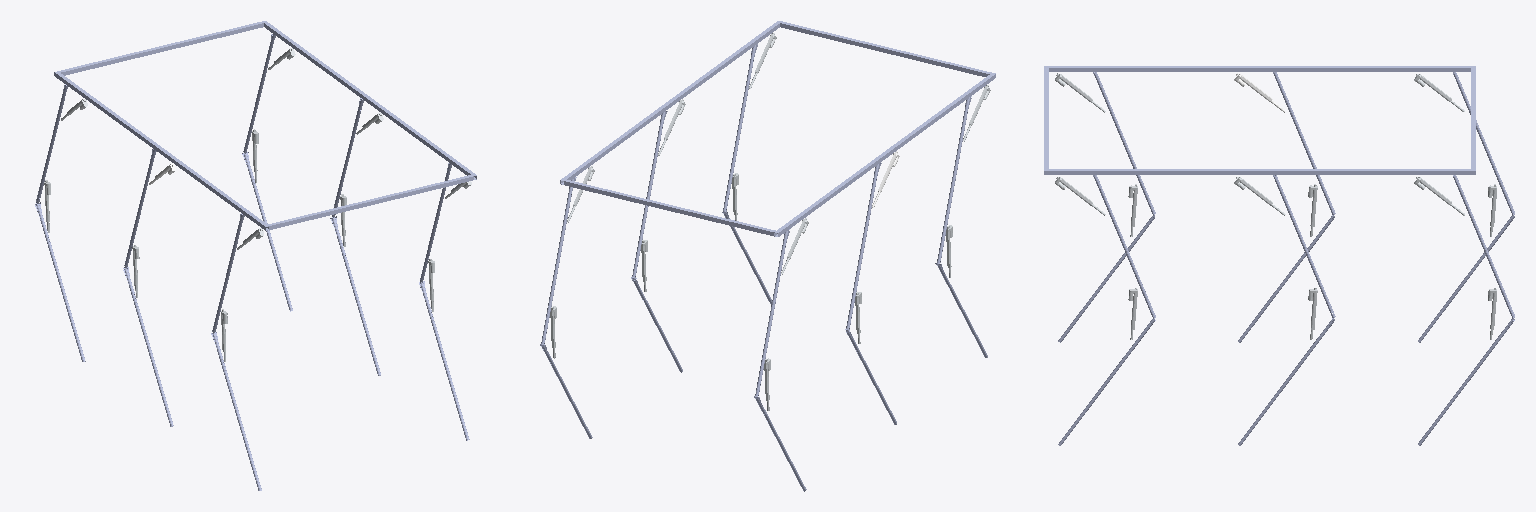
--- Facts derived from the render (not from the file) ---
The picture shows the robot from 3 angles, left to right: view 1: azimuth 30°, elevation 25°; view 2: azimuth 150°, elevation 25°; view 3: azimuth 270°, elevation 25°; orthographic projection.
Model robot_asmb with 45 links and 44 joints (12 revolute, 11 prismatic, 21 fixed), rooted at mid_right_chassis, posed every joint at zero.
Links seen in each view (by area): view 1: chassis_front_H, chassis_rear_H, front_right_chasiss, mid_right_chassis, mid_left_chassis, front_left_chassis, front_right_tube_L, rear_right_tube_L, mid_right_tube_L, front_left_tube_L, mid_left_tube_L, rear_left_tube_L; view 2: chassis_rear_H, chassis_front_H, mid_right_chassis, front_right_chasiss, mid_left_chassis, front_left_chassis, mid_right_tube_U, front_right_tube_U, front_left_tube_U, rear_right_tube_U, rear_left_tube_U, mid_left_tube_U; view 3: mid_right_chassis, front_left_chassis, mid_left_chassis, front_right_chasiss, front_left_tube_L, rear_left_tube_L, mid_left_tube_L, mid_left_tube_U, rear_left_tube_U, front_left_tube_U, rear_right_tube_L, mid_right_tube_L (+1 smaller).
Boxes of the visible links, x1,y1,x2,y2 form: chassis_front_H: (268,175,473,229); chassis_rear_H: (59,22,263,75); front_right_chasiss: (178,162,269,230); mid_right_chassis: (90,97,181,165); mid_left_chassis: (297,46,388,114); front_left_chassis: (385,111,476,179); front_right_tube_L: (213,333,261,490); rear_right_tube_L: (36,204,85,361); mid_right_tube_L: (124,269,173,426); front_left_tube_L: (420,283,469,440); mid_left_tube_L: (332,218,380,375); rear_left_tube_L: (244,154,292,311); chassis_rear_H: (564,179,775,235); chassis_front_H: (780,21,991,76); mid_right_chassis: (811,139,904,210); front_right_chasiss: (902,73,995,143); mid_left_chassis: (597,87,690,157); front_left_chassis: (688,21,781,91); mid_right_tube_U: (846,164,878,329); front_right_tube_U: (937,97,969,262); front_left_tube_U: (723,45,755,210); rear_right_tube_U: (755,231,787,395); rear_left_tube_U: (541,179,573,343); mid_left_tube_U: (632,112,664,277); mid_right_chassis: (1224,66,1403,71); front_left_chassis: (1044,169,1223,174); mid_left_chassis: (1224,169,1403,174); front_right_chasiss: (1044,66,1223,71); front_left_tube_L: (1058,319,1155,445); rear_left_tube_L: (1418,318,1514,445); mid_left_tube_L: (1238,318,1334,445); mid_left_tube_U: (1274,175,1335,317); rear_left_tube_U: (1453,175,1514,317); front_left_tube_U: (1094,175,1155,317); rear_right_tube_L: (1418,215,1514,342); mid_right_tube_L: (1238,215,1334,342).
Size in the robot's own frame: 2.1 by 3.93 by 2.54 metres.
Meshes: 45 distinct files referenced, 44 mesh visuals loaded (44 binary STL); not drawn: 1 (reference not matched to a file when rendering).

robot.urdf — robot_asmb:
<?xml version="1.0" encoding="utf-8"?>
<!-- This URDF was automatically created by SolidWorks to URDF Exporter! Originally created by Stephen Brawner ([email redacted]) 
     Commit Version: 1.6.0-4-g7f85cfe  Build Version: 1.6.7995.38578
     For more information, please see http://wiki.ros.org/sw_urdf_exporter -->
<robot
  name="robot_asmb">
  <link
    name="mid_right_chassis">
    <inertial>
      <origin
        xyz="-1.01904958862805 0.450918359101979 2.53097602022226"
        rpy="0 0 0" />
      <mass
        value="0.664323169148694" />
      <inertia
        ixx="0.124497537684337"
        ixy="1.03440379130568E-07"
        ixz="3.29978112885734E-09"
        iyy="0.000272415804836353"
        iyz="1.06181136709888E-05"
        izz="0.124497811349337" />
    </inertial>
    <visual>
      <origin
        xyz="0 0 0"
        rpy="0 0 0" />
      <geometry>
        <mesh
          filename="package://robot_asmb/meshes/mid_right_chassis.STL" />
      </geometry>
      <material
        name="">
        <color
          rgba="0.792156862745098 0.819607843137255 0.933333333333333 1" />
      </material>
    </visual>
    <collision>
      <origin
        xyz="0 0 0"
        rpy="0 0 0" />
      <geometry>
        <mesh
          filename="package://robot_asmb/meshes/mid_right_chassis.STL" />
      </geometry>
    </collision>
  </link>
  <link
    name="front_right_chasiss">
    <inertial>
      <origin
        xyz="-1.019 -1.0491 2.531"
        rpy="0 0 0" />
      <mass
        value="0.66432" />
      <inertia
        ixx="0.1245"
        ixy="1.0344E-07"
        ixz="3.2998E-09"
        iyy="0.00027242"
        iyz="1.0618E-05"
        izz="0.1245" />
    </inertial>
    <visual>
      <origin
        xyz="0 0 0"
        rpy="0 0 0" />
      <geometry>
        <mesh
          filename="package://robot_asmb/meshes/front_right_chasiss.STL" />
      </geometry>
      <material
        name="">
        <color
          rgba="0.79216 0.81961 0.93333 1" />
      </material>
    </visual>
    <collision>
      <origin
        xyz="0 0 0"
        rpy="0 0 0" />
      <geometry>
        <mesh
          filename="package://robot_asmb/meshes/front_right_chasiss.STL" />
      </geometry>
    </collision>
  </link>
  <joint
    name="front_right_chasiss_j"
    type="fixed">
    <origin
      xyz="0 0 0"
      rpy="0 0 0" />
    <parent
      link="mid_right_chassis" />
    <child
      link="front_right_chasiss" />
    <axis
      xyz="0 0 0" />
  </joint>
  <link
    name="front_right_leg_U">
    <inertial>
      <origin
        xyz="-1.0188 -1.3678 2.4655"
        rpy="0 0 0" />
      <mass
        value="0.014956" />
      <inertia
        ixx="2.7738E-05"
        ixy="6.6298E-08"
        ixz="-1.4085E-07"
        iyy="2.6019E-05"
        iyz="9.8022E-06"
        izz="6.6023E-06" />
    </inertial>
    <visual>
      <origin
        xyz="0 0 0"
        rpy="0 0 0" />
      <geometry>
        <mesh
          filename="package://robot_asmb/meshes/front_right_leg_U.STL" />
      </geometry>
      <material
        name="">
        <color
          rgba="0.79216 0.81961 0.93333 1" />
      </material>
    </visual>
    <collision>
      <origin
        xyz="0 0 0"
        rpy="0 0 0" />
      <geometry>
        <mesh
          filename="package://robot_asmb/meshes/front_right_leg_U.STL" />
      </geometry>
    </collision>
  </link>
  <joint
    name="front_right_leg_U_j"
    type="revolute">
    <origin
      xyz="0 0 0"
      rpy="0 0 0" />
    <parent
      link="front_right_chasiss" />
    <child
      link="front_right_leg_U" />
    <axis
      xyz="-1 0 0" />
    <limit
      lower="0.349"
      upper="-0.349"
      effort="100"
      velocity="1.3307" />
  </joint>
  <link
    name="front_right_tube_U">
    <inertial>
      <origin
        xyz="-1.01905295857089 -1.13101223223748 1.8489163620188"
        rpy="0 0 0" />
      <mass
        value="0.182771130925098" />
      <inertia
        ixx="0.0288040809667445"
        ixy="9.63377608534002E-11"
        ixz="9.56241995791516E-10"
        iyy="0.0251890586766504"
        iyz="0.00953453675325091"
        izz="0.00365156274245493" />
    </inertial>
    <visual>
      <origin
        xyz="0 0 0"
        rpy="0 0 0" />
      <geometry>
        <mesh
          filename="package://robot_asmb/meshes/front_right_tube_U.STL" />
      </geometry>
      <material
        name="">
        <color
          rgba="0.792156862745098 0.819607843137255 0.933333333333333 1" />
      </material>
    </visual>
    <collision>
      <origin
        xyz="0 0 0"
        rpy="0 0 0" />
      <geometry>
        <mesh
          filename="package://robot_asmb/meshes/front_right_tube_U.STL" />
      </geometry>
    </collision>
  </link>
  <joint
    name="front_right_tube_U_j"
    type="fixed">
    <origin
      xyz="0 0 0"
      rpy="0 0 0" />
    <parent
      link="front_right_leg_U" />
    <child
      link="front_right_tube_U" />
    <axis
      xyz="0 0 0" />
  </joint>
  <link
    name="front_right_leg_L">
    <inertial>
      <origin
        xyz="-1.0188 -0.90796 1.145"
        rpy="0 0 0" />
      <mass
        value="0.01493" />
      <inertia
        ixx="2.774E-05"
        ixy="-7.7596E-08"
        ixz="-1.3526E-07"
        iyy="2.2174E-05"
        iyz="-1.249E-05"
        izz="1.045E-05" />
    </inertial>
    <visual>
      <origin
        xyz="0 0 0"
        rpy="0 0 0" />
      <geometry>
        <mesh
          filename="package://robot_asmb/meshes/front_right_leg_L.STL" />
      </geometry>
      <material
        name="">
        <color
          rgba="0.79216 0.81961 0.93333 1" />
      </material>
    </visual>
    <collision>
      <origin
        xyz="0 0 0"
        rpy="0 0 0" />
      <geometry>
        <mesh
          filename="package://robot_asmb/meshes/front_right_leg_L.STL" />
      </geometry>
    </collision>
  </link>
  <joint
    name="front_right_leg_L_j"
    type="revolute">
    <origin
      xyz="0 0 0"
      rpy="0 0 0" />
    <parent
      link="front_right_tube_U" />
    <child
      link="front_right_leg_L" />
    <axis
      xyz="-1 0 0" />
    <limit
      lower="0.349"
      upper="-0.349"
      effort="100"
      velocity="1.8682" />
  </joint>
  <link
    name="front_right_tube_L">
    <inertial>
      <origin
        xyz="-1.01905401460237 -1.28409621956361 0.588700568006992"
        rpy="0 0 0" />
      <mass
        value="0.185067675724338" />
      <inertia
        ixx="0.029708183532636"
        ixy="1.92050090340119E-09"
        ixz="-3.49198418580796E-10"
        iyy="0.0202824973957912"
        iyz="-0.0138136026996856"
        izz="0.00946309533534886" />
    </inertial>
    <visual>
      <origin
        xyz="0 0 0"
        rpy="0 0 0" />
      <geometry>
        <mesh
          filename="package://robot_asmb/meshes/front_right_tube_L.STL" />
      </geometry>
      <material
        name="">
        <color
          rgba="0.792156862745098 0.819607843137255 0.933333333333333 1" />
      </material>
    </visual>
    <collision>
      <origin
        xyz="0 0 0"
        rpy="0 0 0" />
      <geometry>
        <mesh
          filename="package://robot_asmb/meshes/front_right_tube_L.STL" />
      </geometry>
    </collision>
  </link>
  <joint
    name="front_right_tube_L_j"
    type="fixed">
    <origin
      xyz="0 0 0"
      rpy="0 0 0" />
    <parent
      link="front_right_leg_L" />
    <child
      link="front_right_tube_L" />
    <axis
      xyz="0 0 0" />
  </joint>
  <link
    name="front_right_lin_L">
    <inertial>
      <origin
        xyz="-1.01905398973371 -1.05856041000549 1.28353152778218"
        rpy="0 0 0" />
      <mass
        value="0.393600188490506" />
      <inertia
        ixx="0.00416138616901156"
        ixy="1.083705915601E-11"
        ixz="-6.72096977614076E-13"
        iyy="0.00407663775933377"
        iyz="4.83120097697742E-05"
        izz="0.000139424820480645" />
    </inertial>
    <visual>
      <origin
        xyz="0 0 0"
        rpy="0 0 0" />
      <geometry>
        <mesh
          filename="package://robot_asmb/meshes/front_right_lin_L.STL" />
      </geometry>
      <material
        name="">
        <color
          rgba="0.894117647058823 0.913725490196078 0.929411764705882 1" />
      </material>
    </visual>
    <collision>
      <origin
        xyz="0 0 0"
        rpy="0 0 0" />
      <geometry>
        <mesh
          filename="package://robot_asmb/meshes/front_right_lin_L.STL" />
      </geometry>
    </collision>
  </link>
  <joint
    name="front_right_lin_L_j"
    type="prismatic">
    <origin
      xyz="0 0 0"
      rpy="0 0 0" />
    <parent
      link="front_right_tube_L" />
    <child
      link="front_right_lin_L" />
    <axis
      xyz="0 0.074398 0.99723" />
    <limit
      lower="0.09"
      upper="-0.09"
      effort="1600"
      velocity="0.5" />
  </joint>
  <link
    name="front_right_lin_U">
    <inertial>
      <origin
        xyz="-1.01905001026629 -1.5543044722572 2.350205150956"
        rpy="0 0 0" />
      <mass
        value="0.393600188490508" />
      <inertia
        ixx="0.00416138616901158"
        ixy="7.16619284850076E-12"
        ixz="8.15715903343734E-12"
        iyy="0.00147423457571944"
        iyz="0.00186441604988219"
        izz="0.002741828004095" />
    </inertial>
    <visual>
      <origin
        xyz="0 0 0"
        rpy="0 0 0" />
      <geometry>
        <mesh
          filename="package://robot_asmb/meshes/front_right_lin_U.STL" />
      </geometry>
      <material
        name="">
        <color
          rgba="0.894117647058823 0.913725490196078 0.929411764705882 1" />
      </material>
    </visual>
    <collision>
      <origin
        xyz="0 0 0"
        rpy="0 0 0" />
      <geometry>
        <mesh
          filename="package://robot_asmb/meshes/front_right_lin_U.STL" />
      </geometry>
    </collision>
  </link>
  <joint
    name="front_right_lin_U_j"
    type="prismatic">
    <origin
      xyz="0 0 0"
      rpy="0 0 0" />
    <parent
      link="front_right_chasiss" />
    <child
      link="front_right_lin_U" />
    <axis
      xyz="0 -0.75948 0.65054" />
    <limit
      lower="0.09"
      upper="-0.09"
      effort="1600"
      velocity="0.5" />
  </joint>
  <link
    name="chassis_front_H">
    <inertial>
      <origin
        xyz="3.27515792264421E-15 -1.78095 2.53095"
        rpy="0 0 0" />
      <mass
        value="0.887094999999999" />
      <inertia
        ixx="0.000363660529397914"
        ixy="1.08241861026975E-18"
        ixz="-2.08166283043256E-17"
        iyy="0.295880163598033"
        iyz="2.84848404238865E-20"
        izz="0.295880163598033" />
    </inertial>
    <visual>
      <origin
        xyz="0 0 0"
        rpy="0 0 0" />
      <geometry>
        <mesh
          filename="package://robot_asmb/meshes/chassis_front_H.STL" />
      </geometry>
      <material
        name="">
        <color
          rgba="0.792156862745098 0.819607843137255 0.933333333333333 1" />
      </material>
    </visual>
    <collision>
      <origin
        xyz="0 0 0"
        rpy="0 0 0" />
      <geometry>
        <mesh
          filename="package://robot_asmb/meshes/chassis_front_H.STL" />
      </geometry>
    </collision>
  </link>
  <joint
    name="chassis_front_H_j"
    type="fixed">
    <origin
      xyz="0 0 0"
      rpy="0 0 0" />
    <parent
      link="front_right_chasiss" />
    <child
      link="chassis_front_H" />
    <axis
      xyz="0 0 0" />
  </joint>
  <link
    name="front_left_chassis">
    <inertial>
      <origin
        xyz="1.0191 -1.0491 2.531"
        rpy="0 0 0" />
      <mass
        value="0.66432" />
      <inertia
        ixx="0.1245"
        ixy="1.0344E-07"
        ixz="3.2998E-09"
        iyy="0.00027242"
        iyz="1.0618E-05"
        izz="0.1245" />
    </inertial>
    <visual>
      <origin
        xyz="0 0 0"
        rpy="0 0 0" />
      <geometry>
        <mesh
          filename="package://robot_asmb/meshes/front_left_chassis.STL" />
      </geometry>
      <material
        name="">
        <color
          rgba="0.79216 0.81961 0.93333 1" />
      </material>
    </visual>
    <collision>
      <origin
        xyz="0 0 0"
        rpy="0 0 0" />
      <geometry>
        <mesh
          filename="package://robot_asmb/meshes/front_left_chassis.STL" />
      </geometry>
    </collision>
  </link>
  <joint
    name="front_left_chassis_j"
    type="fixed">
    <origin
      xyz="0 0 0"
      rpy="0 0 0" />
    <parent
      link="chassis_front_H" />
    <child
      link="front_left_chassis" />
    <axis
      xyz="0 0 0" />
  </joint>
  <link
    name="front_left_leg_U">
    <inertial>
      <origin
        xyz="1.01928704719084 -1.36780266158664 2.46553433810281"
        rpy="0 0 0" />
      <mass
        value="0.0149562493818225" />
      <inertia
        ixx="2.77383068609028E-05"
        ixy="6.62980830784022E-08"
        ixz="-1.40854477763515E-07"
        iyy="2.60191233053183E-05"
        iyz="9.80223130891786E-06"
        izz="6.60232835543142E-06" />
    </inertial>
    <visual>
      <origin
        xyz="0 0 0"
        rpy="0 0 0" />
      <geometry>
        <mesh
          filename="package://robot_asmb/meshes/front_left_leg_U.STL" />
      </geometry>
      <material
        name="">
        <color
          rgba="0.792156862745098 0.819607843137255 0.933333333333333 1" />
      </material>
    </visual>
    <collision>
      <origin
        xyz="0 0 0"
        rpy="0 0 0" />
      <geometry>
        <mesh
          filename="package://robot_asmb/meshes/front_left_leg_U.STL" />
      </geometry>
    </collision>
  </link>
  <joint
    name="front_left_leg_U_j"
    type="revolute">
    <origin
      xyz="0 0 0"
      rpy="0 0 0" />
    <parent
      link="front_left_chassis" />
    <child
      link="front_left_leg_U" />
    <axis
      xyz="-1 0 0" />
    <limit
      lower="0.349"
      upper="-0.349"
      effort="100"
      velocity="1.3307" />
  </joint>
  <link
    name="front_left_tube_U">
    <inertial>
      <origin
        xyz="1.01904704142911 -1.1310122322375 1.84891636201878"
        rpy="0 0 0" />
      <mass
        value="0.182771130925134" />
      <inertia
        ixx="0.0288040809667479"
        ixy="9.63377580647287E-11"
        ixz="9.56242001787765E-10"
        iyy="0.0251890586766536"
        iyz="0.00953453675325202"
        izz="0.00365156274245511" />
    </inertial>
    <visual>
      <origin
        xyz="0 0 0"
        rpy="0 0 0" />
      <geometry>
        <mesh
          filename="package://robot_asmb/meshes/front_left_tube_U.STL" />
      </geometry>
      <material
        name="">
        <color
          rgba="0.792156862745098 0.819607843137255 0.933333333333333 1" />
      </material>
    </visual>
    <collision>
      <origin
        xyz="0 0 0"
        rpy="0 0 0" />
      <geometry>
        <mesh
          filename="package://robot_asmb/meshes/front_left_tube_U.STL" />
      </geometry>
    </collision>
  </link>
  <joint
    name="front_left_tube_U_j"
    type="fixed">
    <origin
      xyz="0 0 0"
      rpy="0 0 0" />
    <parent
      link="front_left_leg_U" />
    <child
      link="front_left_tube_U" />
    <axis
      xyz="0 0 0" />
  </joint>
  <link
    name="front_left_leg_L">
    <inertial>
      <origin
        xyz="1.0193 -0.90796 1.145"
        rpy="0 0 0" />
      <mass
        value="0.01493" />
      <inertia
        ixx="2.774E-05"
        ixy="-7.7596E-08"
        ixz="-1.3526E-07"
        iyy="2.2174E-05"
        iyz="-1.249E-05"
        izz="1.045E-05" />
    </inertial>
    <visual>
      <origin
        xyz="0 0 0"
        rpy="0 0 0" />
      <geometry>
        <mesh
          filename="package://robot_asmb/meshes/front_left_leg_L.STL" />
      </geometry>
      <material
        name="">
        <color
          rgba="0.79216 0.81961 0.93333 1" />
      </material>
    </visual>
    <collision>
      <origin
        xyz="0 0 0"
        rpy="0 0 0" />
      <geometry>
        <mesh
          filename="package://robot_asmb/meshes/front_left_leg_L.STL" />
      </geometry>
    </collision>
  </link>
  <joint
    name="front_left_leg_L_j"
    type="revolute">
    <origin
      xyz="0 0 0"
      rpy="0 0 0" />
    <parent
      link="front_left_tube_U" />
    <child
      link="front_left_leg_L" />
    <axis
      xyz="-1 0 0" />
    <limit
      lower="0.349"
      upper="-0.349"
      effort="100"
      velocity="1.8682" />
  </joint>
  <link
    name="front_left_tube_L">
    <inertial>
      <origin
        xyz="1.01904598539763 -1.28409621956371 0.588700568006984"
        rpy="0 0 0" />
      <mass
        value="0.185067675724287" />
      <inertia
        ixx="0.0297081835326322"
        ixy="1.92050090037981E-09"
        ixz="-3.49198421587199E-10"
        iyy="0.0202824973957875"
        iyz="-0.0138136026996845"
        izz="0.00946309533534876" />
    </inertial>
    <visual>
      <origin
        xyz="0 0 0"
        rpy="0 0 0" />
      <geometry>
        <mesh
          filename="package://robot_asmb/meshes/front_left_tube_L.STL" />
      </geometry>
      <material
        name="">
        <color
          rgba="0.792156862745098 0.819607843137255 0.933333333333333 1" />
      </material>
    </visual>
    <collision>
      <origin
        xyz="0 0 0"
        rpy="0 0 0" />
      <geometry>
        <mesh
          filename="package://robot_asmb/meshes/front_left_tube_L.STL" />
      </geometry>
    </collision>
  </link>
  <joint
    name="front_left_tube_L_j"
    type="fixed">
    <origin
      xyz="0 0 0"
      rpy="0 0 0" />
    <parent
      link="front_left_leg_L" />
    <child
      link="front_left_tube_L" />
    <axis
      xyz="0 0 0" />
  </joint>
  <link
    name="front_left_lin_L">
    <inertial>
      <origin
        xyz="1.019 -1.0586 1.2835"
        rpy="0 0 0" />
      <mass
        value="0.3936" />
      <inertia
        ixx="0.0041614"
        ixy="1.0837E-11"
        ixz="-6.721E-13"
        iyy="0.0040766"
        iyz="4.8312E-05"
        izz="0.00013942" />
    </inertial>
    <visual>
      <origin
        xyz="0 0 0"
        rpy="0 0 0" />
      <geometry>
        <mesh
          filename="package://robot_asmb/meshes/front_left_lin_L.STL" />
      </geometry>
      <material
        name="">
        <color
          rgba="0.89412 0.91373 0.92941 1" />
      </material>
    </visual>
    <collision>
      <origin
        xyz="0 0 0"
        rpy="0 0 0" />
      <geometry>
        <mesh
          filename="package://robot_asmb/meshes/front_left_lin_L.STL" />
      </geometry>
    </collision>
  </link>
  <joint
    name="front_left_lin_L_j"
    type="prismatic">
    <origin
      xyz="0 0 0"
      rpy="0 0 0" />
    <parent
      link="front_left_tube_L" />
    <child
      link="front_left_lin_L" />
    <axis
      xyz="0 0.074398 0.99723" />
    <limit
      lower="0.09"
      upper="-0.09"
      effort="1600"
      velocity="0.5" />
  </joint>
  <link
    name="front_left_lin_U">
    <inertial>
      <origin
        xyz="1.01904998973371 -1.55430447225721 2.35020515095598"
        rpy="0 0 0" />
      <mass
        value="0.393600188490506" />
      <inertia
        ixx="0.00416138616901156"
        ixy="7.16619285958923E-12"
        ixz="8.15715903791734E-12"
        iyy="0.00147423457571944"
        iyz="0.00186441604988218"
        izz="0.00274182800409498" />
    </inertial>
    <visual>
      <origin
        xyz="0 0 0"
        rpy="0 0 0" />
      <geometry>
        <mesh
          filename="package://robot_asmb/meshes/front_left_lin_U.STL" />
      </geometry>
      <material
        name="">
        <color
          rgba="0.894117647058823 0.913725490196078 0.929411764705882 1" />
      </material>
    </visual>
    <collision>
      <origin
        xyz="0 0 0"
        rpy="0 0 0" />
      <geometry>
        <mesh
          filename="package://robot_asmb/meshes/front_left_lin_U.STL" />
      </geometry>
    </collision>
  </link>
  <joint
    name="front_left_lin_U_j"
    type="prismatic">
    <origin
      xyz="0 0 0"
      rpy="0 0 0" />
    <parent
      link="front_left_chassis" />
    <child
      link="front_left_lin_U" />
    <axis
      xyz="0 -0.75948 0.65054" />
    <limit
      lower="0.09"
      upper="-0.09"
      effort="1600"
      velocity="0.5" />
  </joint>
  <link
    name="mid_left_chassis">
    <inertial>
      <origin
        xyz="1.01905041137195 0.450918359101979 2.53097602022227"
        rpy="0 0 0" />
      <mass
        value="0.664323169148684" />
      <inertia
        ixx="0.124497537684335"
        ixy="1.03440379130001E-07"
        ixz="3.29978112884355E-09"
        iyy="0.000272415804836349"
        iyz="1.06181136709885E-05"
        izz="0.124497811349336" />
    </inertial>
    <visual>
      <origin
        xyz="0 0 0"
        rpy="0 0 0" />
      <geometry>
        <mesh
          filename="package://robot_asmb/meshes/mid_left_chassis.STL" />
      </geometry>
      <material
        name="">
        <color
          rgba="0.792156862745098 0.819607843137255 0.933333333333333 1" />
      </material>
    </visual>
    <collision>
      <origin
        xyz="0 0 0"
        rpy="0 0 0" />
      <geometry>
        <mesh
          filename="package://robot_asmb/meshes/mid_left_chassis.STL" />
      </geometry>
    </collision>
  </link>
  <joint
    name="mid_left_chassis_j"
    type="fixed">
    <origin
      xyz="0 0 0"
      rpy="0 0 0" />
    <parent
      link="front_left_chassis" />
    <child
      link="mid_left_chassis" />
    <axis
      xyz="0 0 0" />
  </joint>
  <link
    name="mid_left_leg_U">
    <inertial>
      <origin
        xyz="1.01928704719084 0.132197338413356 2.4655343381028"
        rpy="0 0 0" />
      <mass
        value="0.014956249381823" />
      <inertia
        ixx="2.77383068609036E-05"
        ixy="6.62980830784294E-08"
        ixz="-1.40854477763544E-07"
        iyy="2.60191233053191E-05"
        iyz="9.80223130891822E-06"
        izz="6.60232835543189E-06" />
    </inertial>
    <visual>
      <origin
        xyz="0 0 0"
        rpy="0 0 0" />
      <geometry>
        <mesh
          filename="package://robot_asmb/meshes/mid_left_leg_U.STL" />
      </geometry>
      <material
        name="">
        <color
          rgba="0.792156862745098 0.819607843137255 0.933333333333333 1" />
      </material>
    </visual>
    <collision>
      <origin
        xyz="0 0 0"
        rpy="0 0 0" />
      <geometry>
        <mesh
          filename="package://robot_asmb/meshes/mid_left_leg_U.STL" />
      </geometry>
    </collision>
  </link>
  <joint
    name="mid_left_leg_U_j"
    type="revolute">
    <origin
      xyz="0 0 0"
      rpy="0 0 0" />
    <parent
      link="mid_left_chassis" />
    <child
      link="mid_left_leg_U" />
    <axis
      xyz="-1 0 0" />
    <limit
      lower="0.349"
      upper="-0.349"
      effort="100"
      velocity="1.3307" />
  </joint>
  <link
    name="mid_left_tube_U">
    <inertial>
      <origin
        xyz="1.01904704142911 0.368987767762493 1.84891636201879"
        rpy="0 0 0" />
      <mass
        value="0.182771130925109" />
      <inertia
        ixx="0.0288040809667452"
        ixy="9.63377617990378E-11"
        ixz="9.56241993028199E-10"
        iyy="0.0251890586766513"
        iyz="0.00953453675325123"
        izz="0.00365156274245477" />
    </inertial>
    <visual>
      <origin
        xyz="0 0 0"
        rpy="0 0 0" />
      <geometry>
        <mesh
          filename="package://robot_asmb/meshes/mid_left_tube_U.STL" />
      </geometry>
      <material
        name="">
        <color
          rgba="0.792156862745098 0.819607843137255 0.933333333333333 1" />
      </material>
    </visual>
    <collision>
      <origin
        xyz="0 0 0"
        rpy="0 0 0" />
      <geometry>
        <mesh
          filename="package://robot_asmb/meshes/mid_left_tube_U.STL" />
      </geometry>
    </collision>
  </link>
  <joint
    name="mid_left_tube_U_j"
    type="fixed">
    <origin
      xyz="0 0 0"
      rpy="0 0 0" />
    <parent
      link="mid_left_leg_U" />
    <child
      link="mid_left_tube_U" />
    <axis
      xyz="0 0 0" />
  </joint>
  <link
    name="mid_left_leg_L">
    <inertial>
      <origin
        xyz="1.0193 0.59204 1.145"
        rpy="0 0 0" />
      <mass
        value="0.01493" />
      <inertia
        ixx="2.774E-05"
        ixy="-7.7596E-08"
        ixz="-1.3526E-07"
        iyy="2.2174E-05"
        iyz="-1.249E-05"
        izz="1.045E-05" />
    </inertial>
    <visual>
      <origin
        xyz="0 0 0"
        rpy="0 0 0" />
      <geometry>
        <mesh
          filename="package://robot_asmb/meshes/mid_left_leg_L.STL" />
      </geometry>
      <material
        name="">
        <color
          rgba="0.79216 0.81961 0.93333 1" />
      </material>
    </visual>
    <collision>
      <origin
        xyz="0 0 0"
        rpy="0 0 0" />
      <geometry>
        <mesh
          filename="package://robot_asmb/meshes/mid_left_leg_L.STL" />
      </geometry>
    </collision>
  </link>
  <joint
    name="mid_left_leg_L_j"
    type="revolute">
    <origin
      xyz="0 0 0"
      rpy="0 0 0" />
    <parent
      link="mid_left_tube_U" />
    <child
      link="mid_left_leg_L" />
    <axis
      xyz="-1 0 0" />
    <limit
      lower="0.349"
      upper="-0.349"
      effort="100"
      velocity="1.8682" />
  </joint>
  <link
    name="mid_left_tube_L">
    <inertial>
      <origin
        xyz="1.01904598539763 0.215903780436281 0.588700568006971"
        rpy="0 0 0" />
      <mass
        value="0.185067675724323" />
      <inertia
        ixx="0.0297081835326349"
        ixy="1.92050090363921E-09"
        ixz="-3.49198416491831E-10"
        iyy="0.0202824973957893"
        iyz="-0.0138136026996857"
        izz="0.00946309533534962" />
    </inertial>
    <visual>
      <origin
        xyz="0 0 0"
        rpy="0 0 0" />
      <geometry>
        <mesh
          filename="package://robot_asmb/meshes/mid_left_tube_L.STL" />
      </geometry>
      <material
        name="">
        <color
          rgba="0.792156862745098 0.819607843137255 0.933333333333333 1" />
      </material>
    </visual>
    <collision>
      <origin
        xyz="0 0 0"
        rpy="0 0 0" />
      <geometry>
        <mesh
          filename="package://robot_asmb/meshes/mid_left_tube_L.STL" />
      </geometry>
    </collision>
  </link>
  <joint
    name="mid_left_tube_L_j"
    type="fixed">
    <origin
      xyz="0 0 0"
      rpy="0 0 0" />
    <parent
      link="mid_left_leg_L" />
    <child
      link="mid_left_tube_L" />
    <axis
      xyz="0 0 0" />
  </joint>
  <link
    name="mid_left_lin_L">
    <inertial>
      <origin
        xyz="1.01904601026629 0.44143958999443 1.28353152778214"
        rpy="0 0 0" />
      <mass
        value="0.393600188490507" />
      <inertia
        ixx="0.00416138616901156"
        ixy="1.08370592958743E-11"
        ixz="-6.7209774882494E-13"
        iyy="0.00407663775933377"
        iyz="4.83120097695795E-05"
        izz="0.000139424820480641" />
    </inertial>
    <visual>
      <origin
        xyz="0 0 0"
        rpy="0 0 0" />
      <geometry>
        <mesh
          filename="package://robot_asmb/meshes/mid_left_lin_L.STL" />
      </geometry>
      <material
        name="">
        <color
          rgba="0.894117647058823 0.913725490196078 0.929411764705882 1" />
      </material>
    </visual>
    <collision>
      <origin
        xyz="0 0 0"
        rpy="0 0 0" />
      <geometry>
        <mesh
          filename="package://robot_asmb/meshes/mid_left_lin_L.STL" />
      </geometry>
    </collision>
  </link>
  <joint
    name="mid_left_lin_L_j"
    type="prismatic">
    <origin
      xyz="0 0 0"
      rpy="0 0 0" />
    <parent
      link="mid_left_tube_L" />
    <child
      link="mid_left_lin_L" />
    <axis
      xyz="0 0.074398 0.99723" />
    <limit
      lower="0.09"
      upper="-0.09"
      effort="1600"
      velocity="0.5" />
  </joint>
  <link
    name="mid_left_lin_U">
    <inertial>
      <origin
        xyz="1.01904998973371 -0.0543044722572099 2.35020515095598"
        rpy="0 0 0" />
      <mass
        value="0.393600188490506" />
      <inertia
        ixx="0.00416138616901155"
        ixy="7.16619286639427E-12"
        ixz="8.15715903066188E-12"
        iyy="0.00147423457571943"
        iyz="0.00186441604988217"
        izz="0.00274182800409498" />
    </inertial>
    <visual>
      <origin
        xyz="0 0 0"
        rpy="0 0 0" />
      <geometry>
        <mesh
          filename="package://robot_asmb/meshes/mid_left_lin_U.STL" />
      </geometry>
      <material
        name="">
        <color
          rgba="0.894117647058823 0.913725490196078 0.929411764705882 1" />
      </material>
    </visual>
    <collision>
      <origin
        xyz="0 0 0"
        rpy="0 0 0" />
      <geometry>
        <mesh
          filename="package://robot_asmb/meshes/mid_left_lin_U.STL" />
      </geometry>
    </collision>
  </link>
  <joint
    name="mid_left_lin_U_j"
    type="prismatic">
    <origin
      xyz="0 0 0"
      rpy="0 0 0" />
    <parent
      link="mid_left_chassis" />
    <child
      link="mid_left_lin_U" />
    <axis
      xyz="0 -0.75948 0.65054" />
    <limit
      lower="0.09"
      upper="-0.09"
      effort="1600"
      velocity="0.5" />
  </joint>
  <link
    name="rear_left_chassis">
    <inertial>
      <origin
        xyz="1.01905103075279 1.50060706291822 2.53101519748497"
        rpy="0 0 0" />
      <mass
        value="0.26513041914869" />
      <inertia
        ixx="0.00799926371862993"
        ixy="-1.96224566105394E-08"
        ixz="3.31048764477828E-09"
        iyy="0.000108767889226196"
        iyz="2.83410622334487E-06"
        izz="0.00799953806067313" />
    </inertial>
    <visual>
      <origin
        xyz="0 0 0"
        rpy="0 0 0" />
      <geometry>
        <mesh
          filename="package://robot_asmb/meshes/rear_left_chassis.STL" />
      </geometry>
      <material
        name="">
        <color
          rgba="0.792156862745098 0.819607843137255 0.933333333333333 1" />
      </material>
    </visual>
    <collision>
      <origin
        xyz="0 0 0"
        rpy="0 0 0" />
      <geometry>
        <mesh
          filename="package://robot_asmb/meshes/rear_left_chassis.STL" />
      </geometry>
    </collision>
  </link>
  <joint
    name="rear_left_chassis_j"
    type="fixed">
    <origin
      xyz="0 0 0"
      rpy="0 0 0" />
    <parent
      link="mid_left_chassis" />
    <child
      link="rear_left_chassis" />
    <axis
      xyz="0 0 0" />
  </joint>
  <link
    name="rear_left_leg_U">
    <inertial>
      <origin
        xyz="1.01928704719084 1.63219733841335 2.46553433810282"
        rpy="0 0 0" />
      <mass
        value="0.0149562493818264" />
      <inertia
        ixx="2.77383068609057E-05"
        ixy="6.62980830784682E-08"
        ixz="-1.40854477763676E-07"
        iyy="2.60191233053206E-05"
        iyz="9.80223130891918E-06"
        izz="6.60232835543248E-06" />
    </inertial>
    <visual>
      <origin
        xyz="0 0 0"
        rpy="0 0 0" />
      <geometry>
        <mesh
          filename="package://robot_asmb/meshes/rear_left_leg_U.STL" />
      </geometry>
      <material
        name="">
        <color
          rgba="0.792156862745098 0.819607843137255 0.933333333333333 1" />
      </material>
    </visual>
    <collision>
      <origin
        xyz="0 0 0"
        rpy="0 0 0" />
      <geometry>
        <mesh
          filename="package://robot_asmb/meshes/rear_left_leg_U.STL" />
      </geometry>
    </collision>
  </link>
  <joint
    name="rear_left_leg_U_j"
    type="revolute">
    <origin
      xyz="0 0 0"
      rpy="0 0 0" />
    <parent
      link="rear_left_chassis" />
    <child
      link="rear_left_leg_U" />
    <axis
      xyz="-1 0 0" />
    <limit
      lower="0.349"
      upper="-0.349"
      effort="100"
      velocity="1.3307" />
  </joint>
  <link
    name="rear_left_tube_U">
    <inertial>
      <origin
        xyz="1.019 1.869 1.8489"
        rpy="0 0 0" />
      <mass
        value="0.18277" />
      <inertia
        ixx="0.028804"
        ixy="9.6338E-11"
        ixz="9.5624E-10"
        iyy="0.025189"
        iyz="0.0095345"
        izz="0.0036516" />
    </inertial>
    <visual>
      <origin
        xyz="0 0 0"
        rpy="0 0 0" />
      <geometry>
        <mesh
          filename="package://robot_asmb/meshes/rear_left_tube_U.STL" />
      </geometry>
      <material
        name="">
        <color
          rgba="0.79216 0.81961 0.93333 1" />
      </material>
    </visual>
    <collision>
      <origin
        xyz="0 0 0"
        rpy="0 0 0" />
      <geometry>
        <mesh
          filename="package://robot_asmb/meshes/rear_left_tube_U.STL" />
      </geometry>
    </collision>
  </link>
  <joint
    name="rear_left_tube_U_j"
    type="fixed">
    <origin
      xyz="0 0 0"
      rpy="0 0 0" />
    <parent
      link="rear_left_leg_U" />
    <child
      link="rear_left_tube_U" />
    <axis
      xyz="0 0 0" />
  </joint>
  <link
    name="rear_left_leg_L">
    <inertial>
      <origin
        xyz="1.01928761122876 2.0920375529714 1.1449974945424"
        rpy="0 0 0" />
      <mass
        value="0.0149300116301178" />
      <inertia
        ixx="2.77403593155305E-05"
        ixy="-7.75956668190196E-08"
        ixz="-1.3525797230188E-07"
        iyy="2.21736408459225E-05"
        iyz="-1.2490241982077E-05"
        izz="1.04501101237391E-05" />
    </inertial>
    <visual>
      <origin
        xyz="0 0 0"
        rpy="0 0 0" />
      <geometry>
        <mesh
          filename="package://robot_asmb/meshes/rear_left_leg_L.STL" />
      </geometry>
      <material
        name="">
        <color
          rgba="0.792156862745098 0.819607843137255 0.933333333333333 1" />
      </material>
    </visual>
    <collision>
      <origin
        xyz="0 0 0"
        rpy="0 0 0" />
      <geometry>
        <mesh
          filename="package://robot_asmb/meshes/rear_left_leg_L.STL" />
      </geometry>
    </collision>
  </link>
  <joint
    name="rear_left_leg_L_j"
    type="revolute">
    <origin
      xyz="0 0 0"
      rpy="0 0 0" />
    <parent
      link="rear_left_tube_U" />
    <child
      link="rear_left_leg_L" />
    <axis
      xyz="-1 0 0" />
    <limit
      lower="0.349"
      upper="-0.349"
      effort="100"
      velocity="1.8682" />
  </joint>
  <link
    name="rear_left_tube_L">
    <inertial>
      <origin
        xyz="1.01904598539763 1.71590378043627 0.588700568006958"
        rpy="0 0 0" />
      <mass
        value="0.185067675724339" />
      <inertia
        ixx="0.0297081835326356"
        ixy="1.92050090383557E-09"
        ixz="-3.49198417708417E-10"
        iyy="0.0202824973957898"
        iyz="-0.0138136026996862"
        izz="0.00946309533534985" />
    </inertial>
    <visual>
      <origin
        xyz="0 0 0"
        rpy="0 0 0" />
      <geometry>
        <mesh
          filename="package://robot_asmb/meshes/rear_left_tube_L.STL" />
      </geometry>
      <material
        name="">
        <color
          rgba="0.792156862745098 0.819607843137255 0.933333333333333 1" />
      </material>
    </visual>
    <collision>
      <origin
        xyz="0 0 0"
        rpy="0 0 0" />
      <geometry>
        <mesh
          filename="package://robot_asmb/meshes/rear_left_tube_L.STL" />
      </geometry>
    </collision>
  </link>
  <joint
    name="rear_left_tube_L_j"
    type="fixed">
    <origin
      xyz="0 0 0"
      rpy="0 0 0" />
    <parent
      link="rear_left_leg_L" />
    <child
      link="rear_left_tube_L" />
    <axis
      xyz="0 0 0" />
  </joint>
  <link
    name="rear_left_lin_L">
    <inertial>
      <origin
        xyz="1.01904601026629 1.94143958999443 1.28353152778214"
        rpy="0 0 0" />
      <mass
        value="0.393600188490506" />
      <inertia
        ixx="0.00416138616901158"
        ixy="1.08370592774062E-11"
        ixz="-6.72097866874209E-13"
        iyy="0.0040766377593338"
        iyz="4.83120097695809E-05"
        izz="0.000139424820480641" />
    </inertial>
    <visual>
      <origin
        xyz="0 0 0"
        rpy="0 0 0" />
      <geometry>
        <mesh
          filename="package://robot_asmb/meshes/rear_left_lin_L.STL" />
      </geometry>
      <material
        name="">
        <color
          rgba="0.894117647058823 0.913725490196078 0.929411764705882 1" />
      </material>
    </visual>
    <collision>
      <origin
        xyz="0 0 0"
        rpy="0 0 0" />
      <geometry>
        <mesh
          filename="package://robot_asmb/meshes/rear_left_lin_L.STL" />
      </geometry>
    </collision>
  </link>
  <joint
    name="rear_left_lin_L_j"
    type="prismatic">
    <origin
      xyz="0 0 0"
      rpy="0 0 0" />
    <parent
      link="rear_left_tube_L" />
    <child
      link="rear_left_lin_L" />
    <axis
      xyz="0 0.074398 0.99723" />
    <limit
      lower="0.09"
      upper="-0.09"
      effort="1600"
      velocity="0.5" />
  </joint>
  <link
    name="rear_left_lin_U">
    <inertial>
      <origin
        xyz="1.01904998973371 1.44569552774279 2.35020515095598"
        rpy="0 0 0" />
      <mass
        value="0.393600188490503" />
      <inertia
        ixx="0.00416138616901153"
        ixy="7.16619283655413E-12"
        ixz="8.15715901800019E-12"
        iyy="0.00147423457571942"
        iyz="0.00186441604988216"
        izz="0.00274182800409496" />
    </inertial>
    <visual>
      <origin
        xyz="0 0 0"
        rpy="0 0 0" />
      <geometry>
        <mesh
          filename="package://robot_asmb/meshes/rear_left_lin_U.STL" />
      </geometry>
      <material
        name="">
        <color
          rgba="0.894117647058823 0.913725490196078 0.929411764705882 1" />
      </material>
    </visual>
    <collision>
      <origin
        xyz="0 0 0"
        rpy="0 0 0" />
      <geometry>
        <mesh
          filename="package://robot_asmb/meshes/rear_left_lin_U.STL" />
      </geometry>
    </collision>
  </link>
  <joint
    name="rear_left_lin_U_J"
    type="prismatic">
    <origin
      xyz="0 0 0"
      rpy="0 0 0" />
    <parent
      link="rear_left_chassis" />
    <child
      link="rear_left_lin_U" />
    <axis
      xyz="0 -0.75948 0.65054" />
    <limit
      lower="0.09"
      upper="-0.09"
      effort="1600"
      velocity="0.5" />
  </joint>
  <link
    name="chassis_rear_H">
    <inertial>
      <origin
        xyz="3.21964677141295E-15 1.78095 2.53095"
        rpy="0 0 0" />
      <mass
        value="0.887095000000013" />
      <inertia
        ixx="0.000363660529397919"
        ixy="-1.88130810611711E-19"
        ixz="-1.70530011629058E-17"
        iyy="0.295880163598037"
        iyz="3.4721814085673E-20"
        izz="0.295880163598037" />
    </inertial>
    <visual>
      <origin
        xyz="0 0 0"
        rpy="0 0 0" />
      <geometry>
        <mesh
          filename="package://robot_asmb/meshes/chassis_rear_H.STL" />
      </geometry>
      <material
        name="">
        <color
          rgba="0.792156862745098 0.819607843137255 0.933333333333333 1" />
      </material>
    </visual>
    <collision>
      <origin
        xyz="0 0 0"
        rpy="0 0 0" />
      <geometry>
        <mesh
          filename="package://robot_asmb/meshes/chassis_rear_H.STL" />
      </geometry>
    </collision>
  </link>
  <joint
    name="chassis_rear_H_j"
    type="fixed">
    <origin
      xyz="0 0 0"
      rpy="0 0 0" />
    <parent
      link="rear_left_chassis" />
    <child
      link="chassis_rear_H" />
    <axis
      xyz="0 0 0" />
  </joint>
  <link
    name="rear_right_chassisb">
    <inertial>
      <origin
        xyz="-1.01904896924721 1.50060706291822 2.53101519748497"
        rpy="0 0 0" />
      <mass
        value="0.265130419148696" />
      <inertia
        ixx="0.0079992637186302"
        ixy="-1.96224566104091E-08"
        ixz="3.31048764502081E-09"
        iyy="0.000108767889226269"
        iyz="2.83410622335826E-06"
        izz="0.00799953806067333" />
    </inertial>
    <visual>
      <origin
        xyz="0 0 0"
        rpy="0 0 0" />
      <geometry>
        <mesh
          filename="package://robot_asmb/meshes/rear_right_chassisb.STL" />
      </geometry>
      <material
        name="">
        <color
          rgba="0.792156862745098 0.819607843137255 0.933333333333333 1" />
      </material>
    </visual>
    <collision>
      <origin
        xyz="0 0 0"
        rpy="0 0 0" />
      <geometry>
        <mesh
          filename="package://robot_asmb/meshes/rear_right_chassisb.STL" />
      </geometry>
    </collision>
  </link>
  <joint
    name="rear_right_chassisb_j"
    type="fixed">
    <origin
      xyz="0 0 0"
      rpy="0 0 0" />
    <parent
      link="chassis_rear_H" />
    <child
      link="rear_right_chassisb" />
    <axis
      xyz="0 0 0" />
  </joint>
  <link
    name="rear_right_chassis">
    <inertial>
      <origin
        xyz="-1.01904896924721 1.50060706291822 2.53101519748497"
        rpy="0 0 0" />
      <mass
        value="0.265130419148696" />
      <inertia
        ixx="0.0079992637186302"
        ixy="-1.96224566104092E-08"
        ixz="3.3104876450208E-09"
        iyy="0.000108767889226269"
        iyz="2.83410622335826E-06"
        izz="0.00799953806067333" />
    </inertial>
    <visual>
      <origin
        xyz="0 0 0"
        rpy="0 0 0" />
      <geometry>
        <mesh
          filename="package://robot_asmb/meshes/rear_right_chassis.STL" />
      </geometry>
      <material
        name="">
        <color
          rgba="0.792156862745098 0.819607843137255 0.933333333333333 1" />
      </material>
    </visual>
    <collision>
      <origin
        xyz="0 0 0"
        rpy="0 0 0" />
      <geometry>
        <mesh
          filename="package://robot_asmb/meshes/rear_right_chassis.STL" />
      </geometry>
    </collision>
  </link>
  <joint
    name="rear_right_chassis_j"
    type="fixed">
    <origin
      xyz="0 0 0"
      rpy="0 0 0" />
    <parent
      link="mid_right_chassis" />
    <child
      link="rear_right_chassis" />
    <axis
      xyz="0 0 0" />
  </joint>
  <link
    name="rear_right_leg_U">
    <inertial>
      <origin
        xyz="-1.01881295280916 1.63219733841336 2.46553433810283"
        rpy="0 0 0" />
      <mass
        value="0.0149562493818249" />
      <inertia
        ixx="2.77383068609052E-05"
        ixy="6.62980830783414E-08"
        ixz="-1.40854477763533E-07"
        iyy="2.60191233053202E-05"
        iyz="9.80223130891883E-06"
        izz="6.60232835543203E-06" />
    </inertial>
    <visual>
      <origin
        xyz="0 0 0"
        rpy="0 0 0" />
      <geometry>
        <mesh
          filename="package://robot_asmb/meshes/rear_right_leg_U.STL" />
      </geometry>
      <material
        name="">
        <color
          rgba="0.792156862745098 0.819607843137255 0.933333333333333 1" />
      </material>
    </visual>
    <collision>
      <origin
        xyz="0 0 0"
        rpy="0 0 0" />
      <geometry>
        <mesh
          filename="package://robot_asmb/meshes/rear_right_leg_U.STL" />
      </geometry>
    </collision>
  </link>
  <joint
    name="rear_right_leg_U_j"
    type="revolute">
    <origin
      xyz="0 0 0"
      rpy="0 0 0" />
    <parent
      link="rear_right_chassis" />
    <child
      link="rear_right_leg_U" />
    <axis
      xyz="-1 0 0" />
    <limit
      lower="0.349"
      upper="-0.349"
      effort="100"
      velocity="1.3307" />
  </joint>
  <link
    name="rear_right_tube_U">
    <inertial>
      <origin
        xyz="-1.01905295857089 1.86898776776252 1.84891636201881"
        rpy="0 0 0" />
      <mass
        value="0.182771130925097" />
      <inertia
        ixx="0.0288040809667441"
        ixy="9.63377585135559E-11"
        ixz="9.56242001298669E-10"
        iyy="0.02518905867665"
        iyz="0.00953453675325074"
        izz="0.0036515627424549" />
    </inertial>
    <visual>
      <origin
        xyz="0 0 0"
        rpy="0 0 0" />
      <geometry>
        <mesh
          filename="package://robot_asmb/meshes/rear_right_tube_U.STL" />
      </geometry>
      <material
        name="">
        <color
          rgba="0.792156862745098 0.819607843137255 0.933333333333333 1" />
      </material>
    </visual>
    <collision>
      <origin
        xyz="0 0 0"
        rpy="0 0 0" />
      <geometry>
        <mesh
          filename="package://robot_asmb/meshes/rear_right_tube_U.STL" />
      </geometry>
    </collision>
  </link>
  <joint
    name="rear_right_tube_U_j"
    type="fixed">
    <origin
      xyz="0 0 0"
      rpy="0 0 0" />
    <parent
      link="rear_right_leg_U" />
    <child
      link="rear_right_tube_U" />
    <axis
      xyz="0 0 0" />
  </joint>
  <link
    name="rear_right_leg_L">
    <inertial>
      <origin
        xyz="-1.01881238877124 2.09203755297148 1.14499749454245"
        rpy="0 0 0" />
      <mass
        value="0.0149300116301128" />
      <inertia
        ixx="2.77403593155235E-05"
        ixy="-7.75956668195453E-08"
        ixz="-1.35257972302738E-07"
        iyy="2.21736408459178E-05"
        iyz="-1.2490241982075E-05"
        izz="1.04501101237352E-05" />
    </inertial>
    <visual>
      <origin
        xyz="0 0 0"
        rpy="0 0 0" />
      <geometry>
        <mesh
          filename="package://robot_asmb/meshes/rear_right_leg_L.STL" />
      </geometry>
      <material
        name="">
        <color
          rgba="0.792156862745098 0.819607843137255 0.933333333333333 1" />
      </material>
    </visual>
    <collision>
      <origin
        xyz="0 0 0"
        rpy="0 0 0" />
      <geometry>
        <mesh
          filename="package://robot_asmb/meshes/rear_right_leg_L.STL" />
      </geometry>
    </collision>
  </link>
  <joint
    name="rear_right_leg_L_j"
    type="revolute">
    <origin
      xyz="0 0 0"
      rpy="0 0 0" />
    <parent
      link="rear_right_tube_U" />
    <child
      link="rear_right_leg_L" />
    <axis
      xyz="-1 0 0" />
    <limit
      lower="0.349"
      upper="-0.349"
      effort="100"
      velocity="1.8682" />
  </joint>
  <link
    name="rear_right_tube_L">
    <inertial>
      <origin
        xyz="-1.01905401460237 1.71590378043638 0.588700568006989"
        rpy="0 0 0" />
      <mass
        value="0.185067675724346" />
      <inertia
        ixx="0.0297081835326365"
        ixy="1.92050090159827E-09"
        ixz="-3.49198420080449E-10"
        iyy="0.0202824973957915"
        iyz="-0.0138136026996858"
        izz="0.00946309533534907" />
    </inertial>
    <visual>
      <origin
        xyz="0 0 0"
        rpy="0 0 0" />
      <geometry>
        <mesh
          filename="package://robot_asmb/meshes/rear_right_tube_L.STL" />
      </geometry>
      <material
        name="">
        <color
          rgba="0.792156862745098 0.819607843137255 0.933333333333333 1" />
      </material>
    </visual>
    <collision>
      <origin
        xyz="0 0 0"
        rpy="0 0 0" />
      <geometry>
        <mesh
          filename="package://robot_asmb/meshes/rear_right_tube_L.STL" />
      </geometry>
    </collision>
  </link>
  <joint
    name="rear_right_tube_L_j"
    type="fixed">
    <origin
      xyz="0 0 0"
      rpy="0 0 0" />
    <parent
      link="rear_right_leg_L" />
    <child
      link="rear_right_tube_L" />
    <axis
      xyz="0 0 0" />
  </joint>
  <link
    name="rear_right_lin_L">
    <inertial>
      <origin
        xyz="-1.01905398973371 1.94143958999451 1.28353152778218"
        rpy="0 0 0" />
      <mass
        value="0.393600188490507" />
      <inertia
        ixx="0.00416138616901158"
        ixy="1.08370591962972E-11"
        ixz="-6.72097199544717E-13"
        iyy="0.00407663775933379"
        iyz="4.83120097697753E-05"
        izz="0.000139424820480647" />
    </inertial>
    <visual>
      <origin
        xyz="0 0 0"
        rpy="0 0 0" />
      <geometry>
        <mesh
          filename="package://robot_asmb/meshes/rear_right_lin_L.STL" />
      </geometry>
      <material
        name="">
        <color
          rgba="0.894117647058823 0.913725490196078 0.929411764705882 1" />
      </material>
    </visual>
    <collision>
      <origin
        xyz="0 0 0"
        rpy="0 0 0" />
      <geometry>
        <mesh
          filename="package://robot_asmb/meshes/rear_right_lin_L.STL" />
      </geometry>
    </collision>
  </link>
  <joint
    name="rear_right_lin_L_j"
    type="fixed">
    <origin
      xyz="0 0 0"
      rpy="0 0 0" />
    <parent
      link="rear_right_tube_L" />
    <child
      link="rear_right_lin_L" />
    <axis
      xyz="0 0 0" />
    <limit
      lower="0.09"
      upper="-0.09"
      effort="1600"
      velocity="0.5" />
  </joint>
  <link
    name="rear_right_lin_U">
    <inertial>
      <origin
        xyz="-1.01905001026629 1.4456955277428 2.350205150956"
        rpy="0 0 0" />
      <mass
        value="0.393600188490505" />
      <inertia
        ixx="0.00416138616901157"
        ixy="7.16619284096849E-12"
        ixz="8.15715906395668E-12"
        iyy="0.00147423457571944"
        iyz="0.00186441604988218"
        izz="0.00274182800409499" />
    </inertial>
    <visual>
      <origin
        xyz="0 0 0"
        rpy="0 0 0" />
      <geometry>
        <mesh
          filename="package://robot_asmb/meshes/rear_right_lin_U.STL" />
      </geometry>
      <material
        name="">
        <color
          rgba="0.894117647058823 0.913725490196078 0.929411764705882 1" />
      </material>
    </visual>
    <collision>
      <origin
        xyz="0 0 0"
        rpy="0 0 0" />
      <geometry>
        <mesh
          filename="package://robot_asmb/meshes/rear_right_lin_U.STL" />
      </geometry>
    </collision>
  </link>
  <joint
    name="rear_right_lin_U_j"
    type="prismatic">
    <origin
      xyz="0 0 0"
      rpy="0 0 0" />
    <parent
      link="rear_right_chassis" />
    <child
      link="rear_right_lin_U" />
    <axis
      xyz="0 -0.75948 0.65054" />
    <limit
      lower="0.09"
      upper="-0.09"
      effort="1600"
      velocity="0.5" />
  </joint>
  <link
    name="mid_right_leg_U">
    <inertial>
      <origin
        xyz="-1.01881295280916 0.132197338413352 2.46553433810282"
        rpy="0 0 0" />
      <mass
        value="0.0149562493818268" />
      <inertia
        ixx="2.77383068609062E-05"
        ixy="6.62980830786259E-08"
        ixz="-1.40854477763992E-07"
        iyy="2.60191233053204E-05"
        iyz="9.80223130891981E-06"
        izz="6.60232835543278E-06" />
    </inertial>
    <visual>
      <origin
        xyz="0 0 0"
        rpy="0 0 0" />
      <geometry>
        <mesh
          filename="package://robot_asmb/meshes/mid_right_leg_U.STL" />
      </geometry>
      <material
        name="">
        <color
          rgba="0.792156862745098 0.819607843137255 0.933333333333333 1" />
      </material>
    </visual>
    <collision>
      <origin
        xyz="0 0 0"
        rpy="0 0 0" />
      <geometry>
        <mesh
          filename="package://robot_asmb/meshes/mid_right_leg_U.STL" />
      </geometry>
    </collision>
  </link>
  <joint
    name="mid_right_leg_U_j"
    type="revolute">
    <origin
      xyz="0 0 0"
      rpy="0 0 0" />
    <parent
      link="mid_right_chassis" />
    <child
      link="mid_right_leg_U" />
    <axis
      xyz="-1 0 0" />
    <limit
      lower="0.349"
      upper="-0.349"
      effort="100"
      velocity="1.3307" />
  </joint>
  <link
    name="mid_right_tube_U">
    <inertial>
      <origin
        xyz="-1.01905295857089 0.368987767762518 1.84891636201881"
        rpy="0 0 0" />
      <mass
        value="0.182771130925103" />
      <inertia
        ixx="0.0288040809667445"
        ixy="9.63377575155421E-11"
        ixz="9.56242003769553E-10"
        iyy="0.0251890586766499"
        iyz="0.00953453675325146"
        izz="0.00365156274245535" />
    </inertial>
    <visual>
      <origin
        xyz="0 0 0"
        rpy="0 0 0" />
      <geometry>
        <mesh
          filename="package://robot_asmb/meshes/mid_right_tube_U.STL" />
      </geometry>
      <material
        name="">
        <color
          rgba="0.792156862745098 0.819607843137255 0.933333333333333 1" />
      </material>
    </visual>
    <collision>
      <origin
        xyz="0 0 0"
        rpy="0 0 0" />
      <geometry>
        <mesh
          filename="package://robot_asmb/meshes/mid_right_tube_U.STL" />
      </geometry>
    </collision>
  </link>
  <joint
    name="mid_right_tube_U_j"
    type="fixed">
    <origin
      xyz="0 0 0"
      rpy="0 0 0" />
    <parent
      link="mid_right_leg_U" />
    <child
      link="mid_right_tube_U" />
    <axis
      xyz="0 0 0" />
    <limit
      lower="0.349"
      upper="-0.349"
      effort="100"
      velocity="0" />
  </joint>
  <link
    name="mid_right_leg_L">
    <inertial>
      <origin
        xyz="-1.01881238877124 0.592037552971444 1.14499749454241"
        rpy="0 0 0" />
      <mass
        value="0.0149300116301118" />
      <inertia
        ixx="2.77403593155189E-05"
        ixy="-7.75956668192706E-08"
        ixz="-1.35257972302178E-07"
        iyy="2.21736408459149E-05"
        iyz="-1.24902419820747E-05"
        izz="1.04501101237344E-05" />
    </inertial>
    <visual>
      <origin
        xyz="0 0 0"
        rpy="0 0 0" />
      <geometry>
        <mesh
          filename="package://robot_asmb/meshes/mid_right_leg_L.STL" />
      </geometry>
      <material
        name="">
        <color
          rgba="0.792156862745098 0.819607843137255 0.933333333333333 1" />
      </material>
    </visual>
    <collision>
      <origin
        xyz="0 0 0"
        rpy="0 0 0" />
      <geometry>
        <mesh
          filename="package://robot_asmb/meshes/mid_right_leg_L.STL" />
      </geometry>
    </collision>
  </link>
  <joint
    name="mid_right_leg_L_j"
    type="revolute">
    <origin
      xyz="0 0 0"
      rpy="0 0 0" />
    <parent
      link="mid_right_tube_U" />
    <child
      link="mid_right_leg_L" />
    <axis
      xyz="-1 0 0" />
    <limit
      lower="0.349"
      upper="-0.349"
      effort="100"
      velocity="1.8682" />
  </joint>
  <link
    name="mid_right_tube_L">
    <inertial>
      <origin
        xyz="-1.01905401460237 0.215903780436336 0.588700568006964"
        rpy="0 0 0" />
      <mass
        value="0.185067675724338" />
      <inertia
        ixx="0.029708183532636"
        ixy="1.9205009068834E-09"
        ixz="-3.49198412898839E-10"
        iyy="0.0202824973957906"
        iyz="-0.0138136026996858"
        izz="0.00946309533534944" />
    </inertial>
    <visual>
      <origin
        xyz="0 0 0"
        rpy="0 0 0" />
      <geometry>
        <mesh
          filename="package://robot_asmb/meshes/mid_right_tube_L.STL" />
      </geometry>
      <material
        name="">
        <color
          rgba="0.792156862745098 0.819607843137255 0.933333333333333 1" />
      </material>
    </visual>
    <collision>
      <origin
        xyz="0 0 0"
        rpy="0 0 0" />
      <geometry>
        <mesh
          filename="package://robot_asmb/meshes/mid_right_tube_L.STL" />
      </geometry>
    </collision>
  </link>
  <joint
    name="mid_right_tube_L_j"
    type="fixed">
    <origin
      xyz="0 0 0"
      rpy="0 0 0" />
    <parent
      link="mid_right_leg_L" />
    <child
      link="mid_right_tube_L" />
    <axis
      xyz="0 0 0" />
  </joint>
  <link
    name="mid_right_lin_L">
    <inertial>
      <origin
        xyz="-1.01905398973372 0.441439589994471 1.28353152778215"
        rpy="0 0 0" />
      <mass
        value="0.393600188490506" />
      <inertia
        ixx="0.00416138616901156"
        ixy="1.08370591785241E-11"
        ixz="-6.72097132499998E-13"
        iyy="0.00407663775933377"
        iyz="4.8312009769678E-05"
        izz="0.000139424820480643" />
    </inertial>
    <visual>
      <origin
        xyz="0 0 0"
        rpy="0 0 0" />
      <geometry>
        <mesh
          filename="package://robot_asmb/meshes/mid_right_lin_L.STL" />
      </geometry>
      <material
        name="">
        <color
          rgba="0.894117647058823 0.913725490196078 0.929411764705882 1" />
      </material>
    </visual>
    <collision>
      <origin
        xyz="0 0 0"
        rpy="0 0 0" />
      <geometry>
        <mesh
          filename="package://robot_asmb/meshes/mid_right_lin_L.STL" />
      </geometry>
    </collision>
  </link>
  <joint
    name="mid_right_lin_L_j"
    type="prismatic">
    <origin
      xyz="0 0 0"
      rpy="0 0 0" />
    <parent
      link="mid_right_tube_L" />
    <child
      link="mid_right_lin_L" />
    <axis
      xyz="0 0.074398 0.99723" />
    <limit
      lower="0.09"
      upper="-0.09"
      effort="1600"
      velocity="0.5" />
  </joint>
  <link
    name="mid_right_lin_U">
    <inertial>
      <origin
        xyz="0 0 0"
        rpy="0 0 0" />
      <mass
        value="0" />
      <inertia
        ixx="0"
        ixy="0"
        ixz="0"
        iyy="0"
        iyz="0"
        izz="0" />
    </inertial>
    <visual>
      <origin
        xyz="0 0 0"
        rpy="0 0 0" />
      <geometry>
        <mesh
          filename="package://robot_asmb/meshes/mid_right_lin_U.STL" />
      </geometry>
      <material
        name="">
        <color
          rgba="1 1 1 1" />
      </material>
    </visual>
    <collision>
      <origin
        xyz="0 0 0"
        rpy="0 0 0" />
      <geometry>
        <mesh
          filename="package://robot_asmb/meshes/mid_right_lin_U.STL" />
      </geometry>
    </collision>
  </link>
  <joint
    name="mid_right_lin_U_j"
    type="prismatic">
    <origin
      xyz="0 0 0"
      rpy="0 0 0" />
    <parent
      link="mid_right_chassis" />
    <child
      link="mid_right_lin_U" />
    <axis
      xyz="0 -0.75948 0.65054" />
    <limit
      lower="0.09"
      upper="-0.09"
      effort="1600"
      velocity="0.5" />
  </joint>
</robot>
